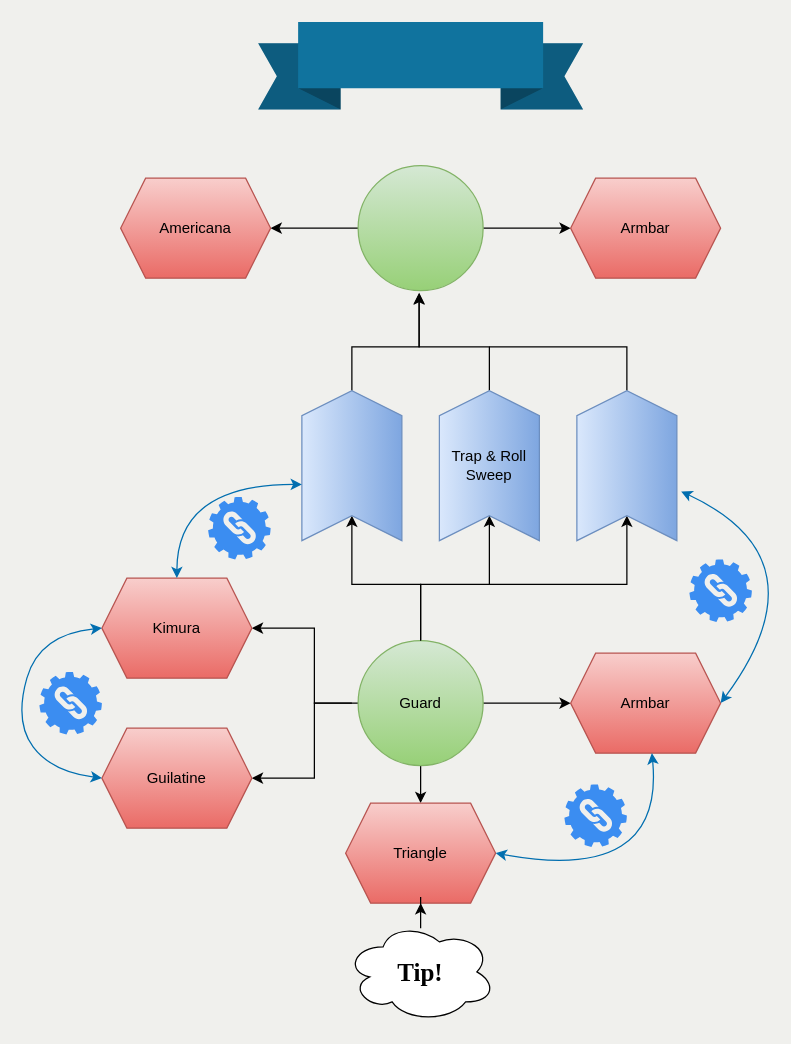
The diagram is 791 pixels wide and 1044 high, and some of its shapes have lost their labels. The box of each missing label's shape, as (x1, y1, x2, y2) in pixels:
Archers BJJ Flow Chart - The Guard: (258, 21, 582, 109)
Hip-Bump Sweep: (301, 389, 402, 541)
Mount: (357, 164, 483, 291)
Pendulum Sweep: (576, 389, 677, 541)
